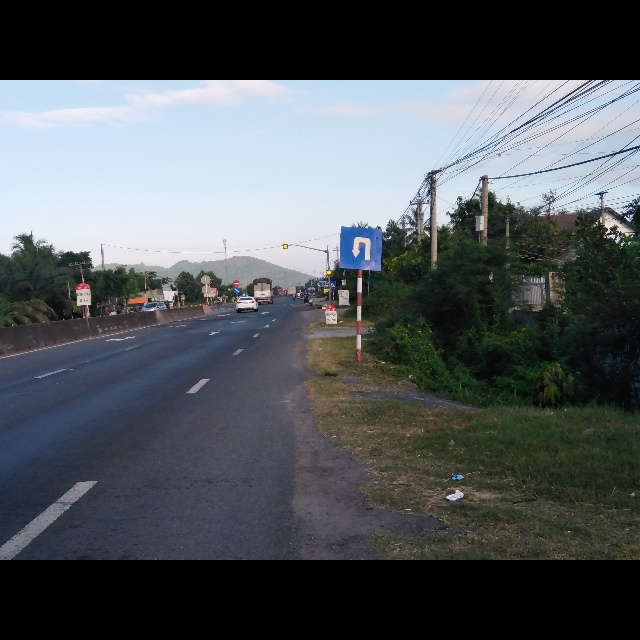Khu vực quay đầu xe: (338, 225, 383, 273)
